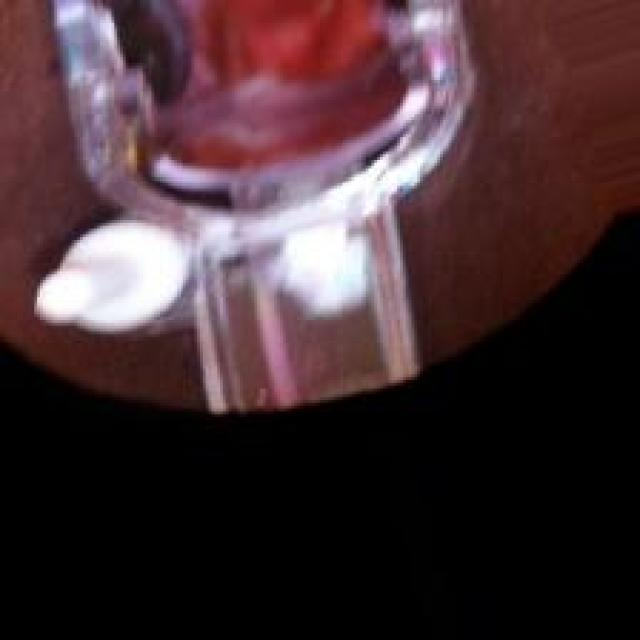type-3: (17, 23, 598, 335)
